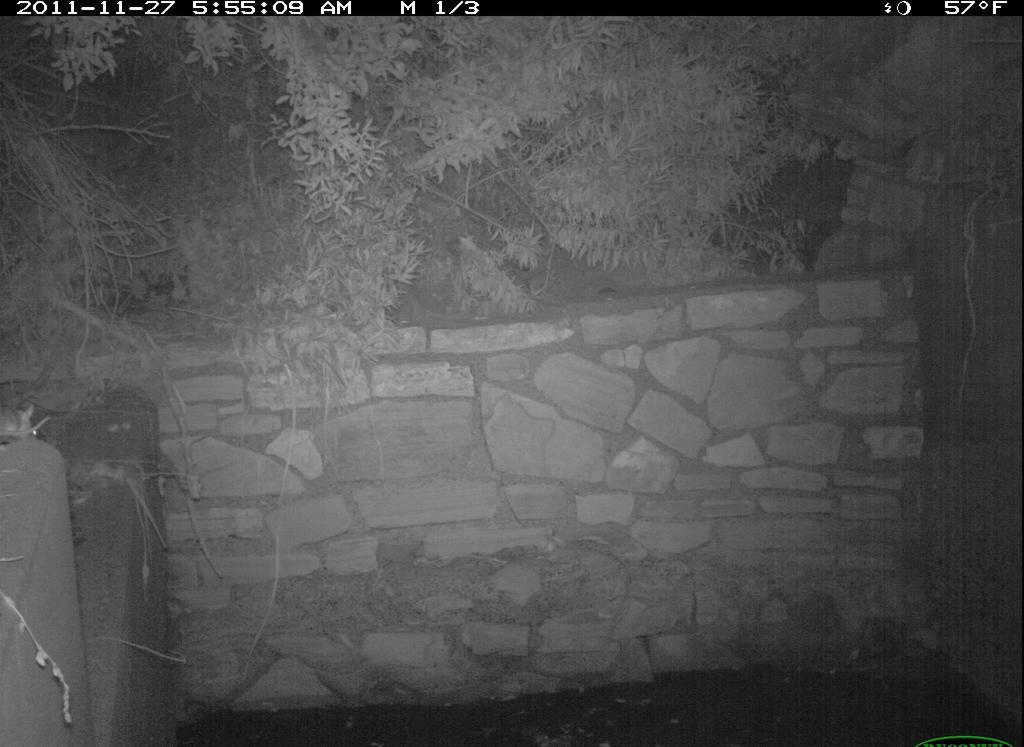rodent: (1, 401, 59, 454)
